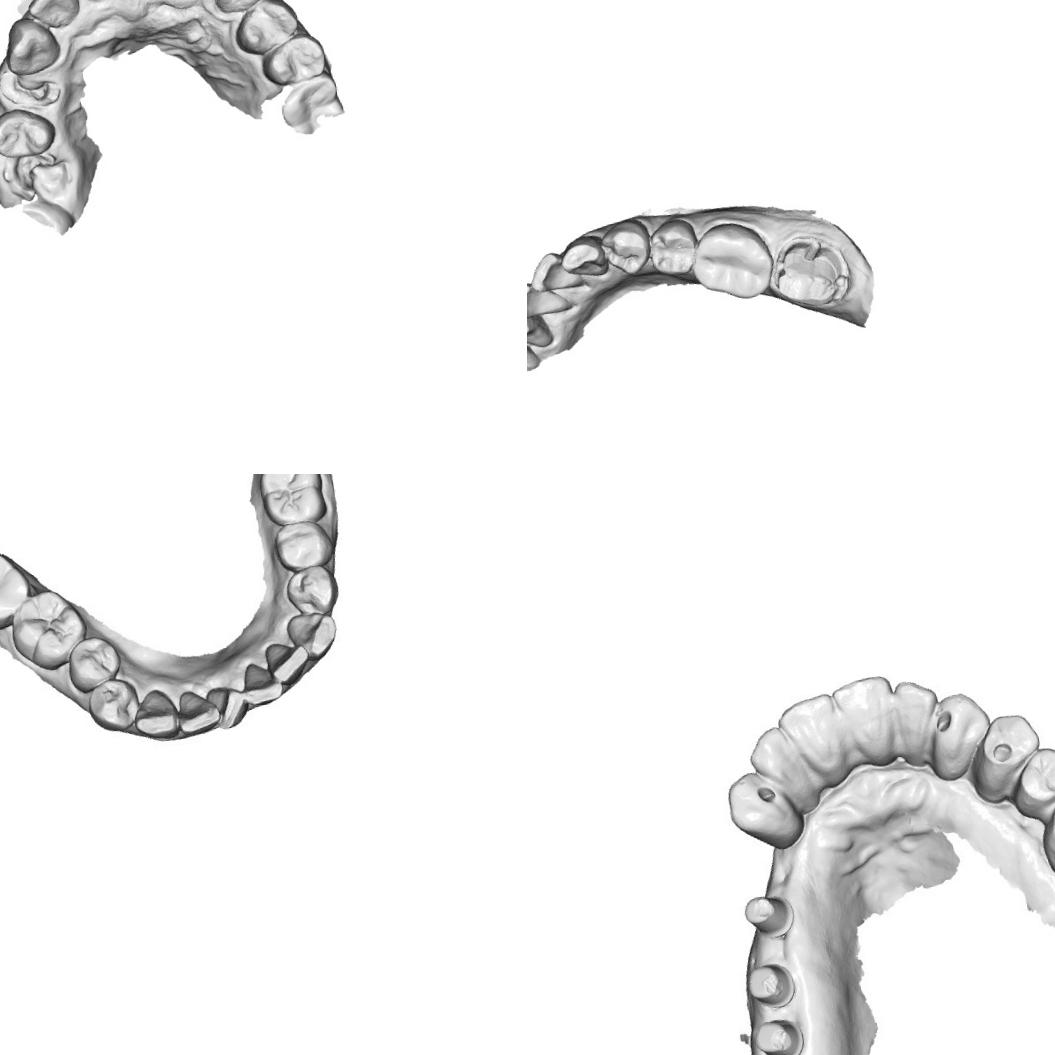abutment: (738, 886, 797, 944), (744, 1009, 816, 1055), (741, 956, 799, 1012)
canine: (920, 680, 994, 778), (720, 766, 800, 844), (0, 11, 66, 79), (283, 604, 343, 664), (130, 684, 180, 741), (557, 232, 610, 280), (206, 0, 272, 16)
crown: (764, 226, 856, 318)
incisor: (828, 672, 904, 764), (772, 690, 849, 771), (744, 721, 812, 796), (889, 674, 947, 758), (235, 657, 286, 710), (262, 637, 312, 691), (527, 247, 584, 294), (174, 686, 221, 736), (527, 275, 574, 321), (207, 685, 248, 732), (24, 0, 82, 32), (527, 313, 555, 353)
molar: (685, 212, 783, 312), (4, 586, 88, 676), (253, 474, 333, 530), (0, 547, 33, 634), (1036, 777, 1055, 876)
premolar: (970, 708, 1046, 795), (229, 0, 302, 59), (257, 30, 329, 88), (61, 630, 124, 696), (271, 516, 337, 574), (84, 672, 143, 735), (646, 214, 702, 280), (280, 563, 344, 619), (0, 101, 59, 161), (598, 216, 654, 278), (1011, 742, 1055, 812)
